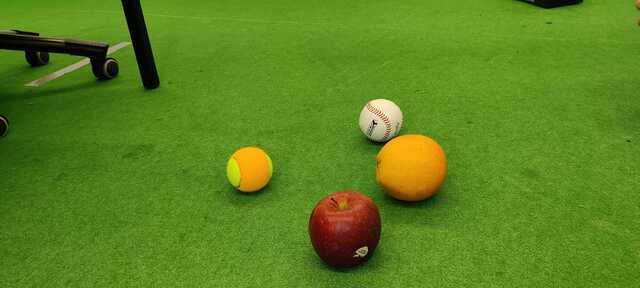013_apple: (307, 189, 383, 269)
017_orange: (374, 132, 449, 203)
055_baseball: (356, 96, 406, 142)
056_tennis_ball: (223, 142, 277, 196)
